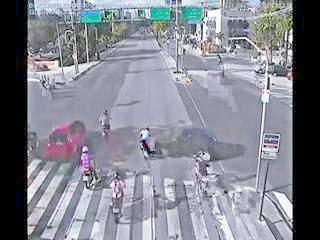Car: (150, 126, 218, 156), (45, 122, 89, 158)
Minor Accident: (132, 123, 220, 160)
Motor: (193, 163, 210, 191), (135, 129, 153, 155), (110, 192, 125, 220), (83, 163, 99, 186), (99, 112, 114, 136)
